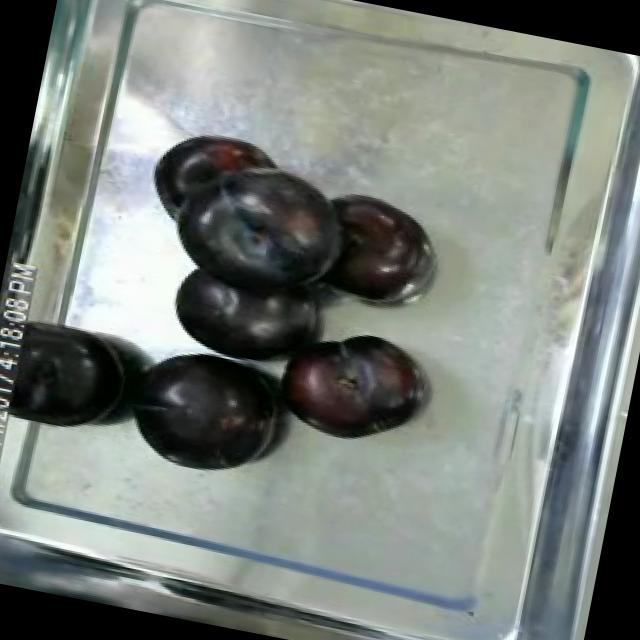Fruit: (99, 331, 296, 490), (258, 310, 435, 462), (309, 184, 441, 319)
